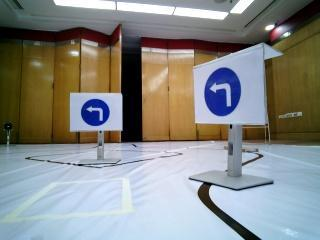left: (192, 65, 260, 123), (77, 90, 120, 133)
